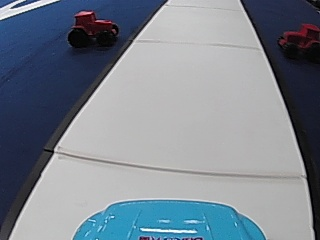tractor: (66, 8, 120, 49), (277, 20, 319, 62)
